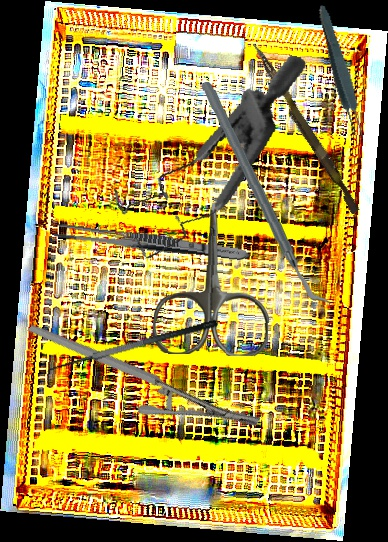Chopper: (200, 76, 330, 312)
Dressing Forceps: (52, 222, 252, 264)
Iris Scissors: (152, 201, 273, 357)
Needle Holder: (27, 261, 262, 487)
Pusher: (244, 41, 365, 215)
Spatula Surgical: (41, 318, 223, 385)
Speculum: (101, 25, 308, 283)
Tissue Forceps: (312, 2, 369, 144)
